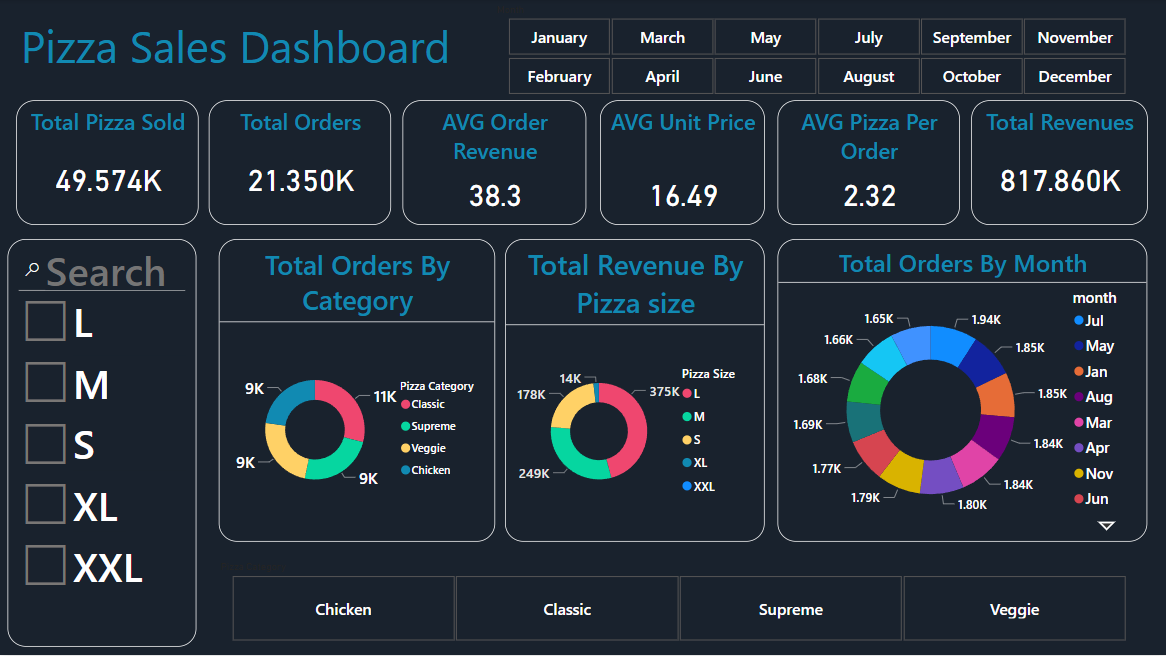

The dashboard page shown, as its layout file describes it:
{"tool":"powerbi","page":{"name":"Page 1","canvas":[1280,720],"ordinal":0},"visuals":[{"type":"donutChart","title":"Total Orders By Category ","fields":{"Category":["pizza_sales (2).Pizza Category"],"Y":["Calculations.Total Orders by Category"]},"box":[239.9,263.2,303,331.8],"z":0},{"type":"donutChart","title":"Total Revenue By Pizza size ","fields":{"Y":["Calculations.Total Revenue by Pizza size"],"Category":["pizza_sales (2).Pizza Size"]},"box":[553.9,263.2,285.2,331.8],"z":1000},{"type":"card","title":"Total Pizza Sold ","fields":{"Values":["Calculations.Total Pizza Sold"]},"box":[17.8,111.1,200.2,137.1],"z":2000},{"type":"card","title":"AVG Order Revenue ","fields":{"Values":["Calculations.Average Order Revenue"]},"box":[441.5,111.1,201.5,137.1],"z":3000},{"type":"card","title":"Total Orders ","fields":{"Values":["Calculations.Total Orders"]},"box":[229,111.1,200.2,137.1],"z":4000},{"type":"card","title":"AVG Unit Price ","fields":{"Values":["Calculations.Avg unit price"]},"box":[658.1,111.1,181,137.1],"z":5000},{"type":"card","title":"AVG Pizza Per Order","fields":{"Values":["Calculations.Average Pizza Per Order"]},"box":[852.8,111.1,200.2,137.1],"z":6000},{"type":"card","title":"Total Revenues ","fields":{"Values":["Calculations.Total Revenue"]},"box":[1065.3,111.1,193.3,137.1],"z":7000},{"type":"textbox","box":[17.8,13.7,1240.8,97.3],"z":8000},{"type":"slicer","fields":{"Values":["pizza_sales (2).Pizza Size"]},"box":[8.2,263.2,207,447],"z":9000},{"type":"slicer","fields":{"Values":["pizza_sales (2).Pizza Category"]},"box":[229,611.5,1029.7,98.7],"z":10000},{"type":"slicer","fields":{"Values":["pizza_sales (2).Order Date.Variation.Date Hierarchy.Month"]},"box":[532,0,726.7,111.1],"z":11000},{"type":"donutChart","title":"Total Orders By Month ","fields":{"Category":["month.month"],"Y":["Sum(month.total_orders_by_month)"]},"box":[852.8,263.2,405.8,331.8],"z":11001}]}

Visuals, with their boxes in screenshot pixels (x1, y1, x2, y2), scaled from the page's 1280x720 canvas onto the 1166x656 screenshot:
"Total Orders By Category " donutChart: bbox(219, 240, 495, 542)
"Total Revenue By Pizza size " donutChart: bbox(505, 240, 764, 542)
"Total Pizza Sold " card: bbox(16, 101, 199, 226)
"AVG Order Revenue " card: bbox(402, 101, 586, 226)
"Total Orders " card: bbox(209, 101, 391, 226)
"AVG Unit Price " card: bbox(599, 101, 764, 226)
"AVG Pizza Per Order" card: bbox(777, 101, 959, 226)
"Total Revenues " card: bbox(970, 101, 1147, 226)
textbox: bbox(16, 12, 1147, 101)
slicer - pizza_sales (2).Pizza Size: bbox(7, 240, 196, 647)
slicer - pizza_sales (2).Pizza Category: bbox(209, 557, 1147, 647)
slicer - pizza_sales (2).Order Date.Variation.Date Hierarchy.Month: bbox(485, 0, 1147, 101)
"Total Orders By Month " donutChart: bbox(777, 240, 1147, 542)
